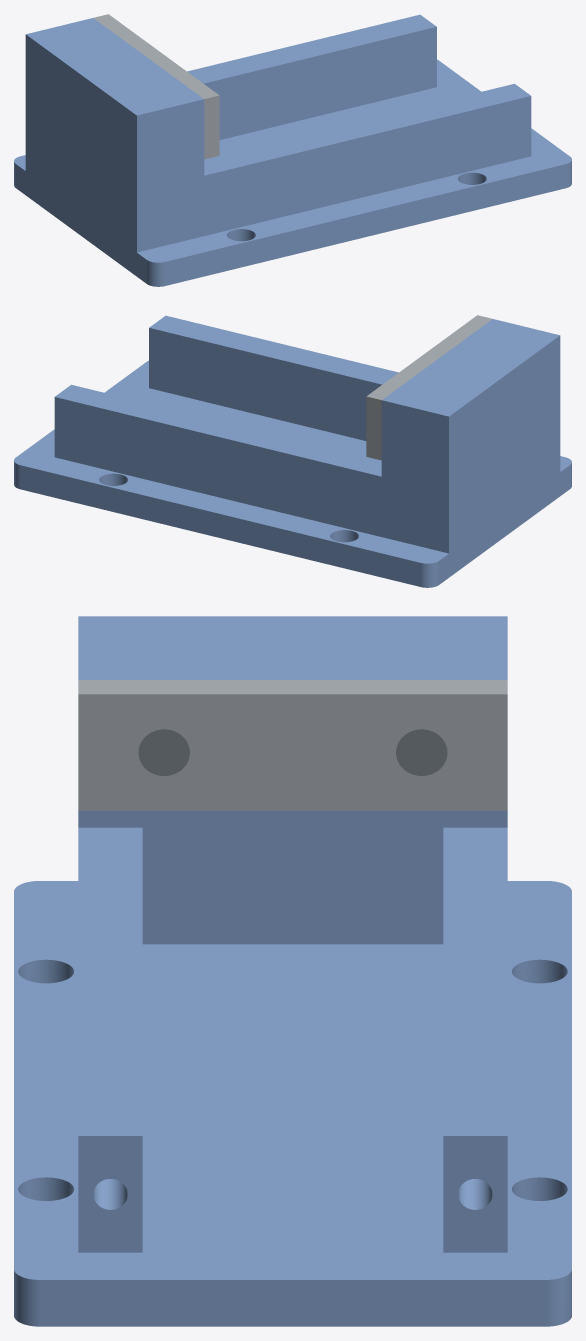
File: step_20.glb
The picture shows the model from 3 angles, top to bottom: view 1: azimuth 30°, elevation 25°; view 2: azimuth 150°, elevation 25°; view 3: azimuth 270°, elevation 25°; orthographic projection. The views are drawn at different scales.
Visible parts, largest first — view 1: part__body, part__fixed jaw plate; view 2: part__body, part__fixed jaw plate; view 3: part__body, part__fixed jaw plate, part__jaw plate screw 1, part__jaw plate screw 2.
Boxes of the visible parts, x1,y1,x2,y2 form: part__body: (14,14,571,286); part__fixed jaw plate: (93,14,219,159); part__body: (14,315,571,587); part__fixed jaw plate: (366,315,492,460); part__body: (14,616,571,1326); part__fixed jaw plate: (78,680,507,810); part__jaw plate screw 1: (396,729,447,775); part__jaw plate screw 2: (138,729,189,775).
Size of the model in its own units: 220 by 80 by 130.
